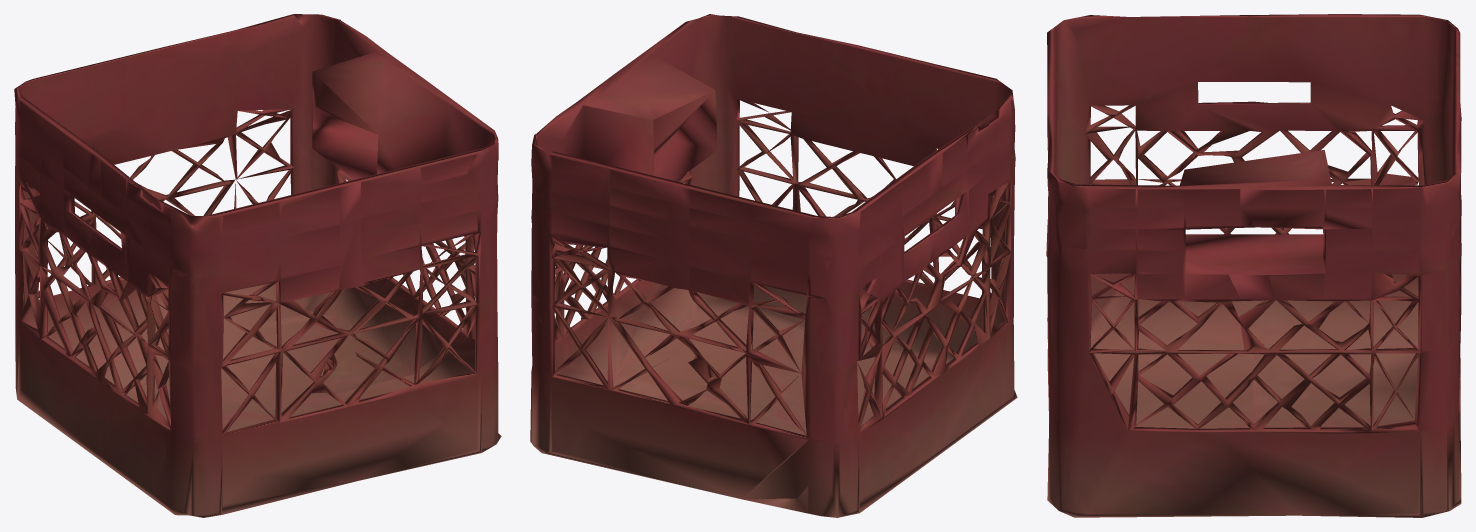
File: prop-image-to-model.glb
The picture shows the model from 3 angles, left to right: view 1: azimuth 30°, elevation 25°; view 2: azimuth 150°, elevation 25°; view 3: azimuth 270°, elevation 25°; orthographic projection. The views are drawn at different scales.
Parts seen in each view (by area): view 1: tripo_node_1d231007-42be-4ad7-b787-babaa39adf4e; view 2: tripo_node_1d231007-42be-4ad7-b787-babaa39adf4e; view 3: tripo_node_1d231007-42be-4ad7-b787-babaa39adf4e.
Part boxes in pixels (bbox=[...]): tripo_node_1d231007-42be-4ad7-b787-babaa39adf4e: bbox=[14, 14, 501, 517]; tripo_node_1d231007-42be-4ad7-b787-babaa39adf4e: bbox=[530, 14, 1017, 517]; tripo_node_1d231007-42be-4ad7-b787-babaa39adf4e: bbox=[1046, 14, 1461, 517].
Size of the model in its own units: 0.9953 by 0.8771 by 1.
1 material, 1 textured.
